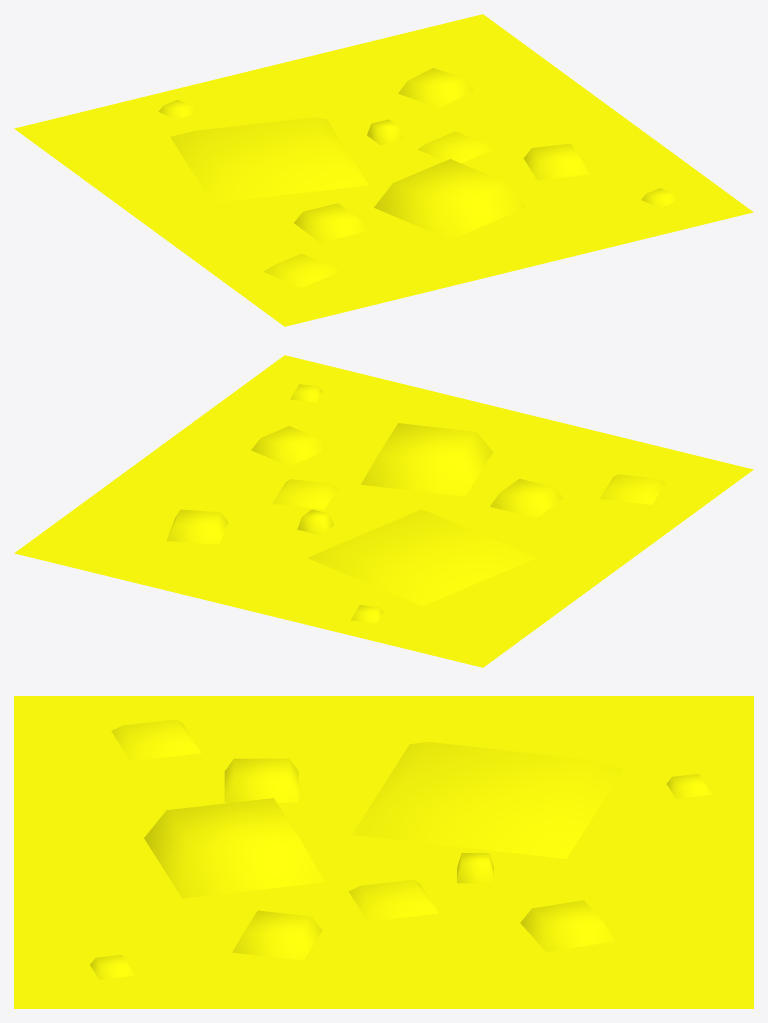
Rendered from 建筑构件_地板_装饰.glb.
3 views of the same model, one above another, from view 1: azimuth 30°, elevation 25°; view 2: azimuth 150°, elevation 25°; view 3: azimuth 270°, elevation 25° (orthographic). The views are drawn at different scales.
Visible parts, largest first — view 1: floor-detail; view 2: floor-detail; view 3: floor-detail.
Part boxes in pixels (x1=…): floor-detail: x1=14, y1=14, x2=753, y2=326; floor-detail: x1=14, y1=355, x2=753, y2=667; floor-detail: x1=14, y1=696, x2=753, y2=1008.
Bounding box in the file's own units: 1 × 0.05 × 1.
1 material, 1 textured.
